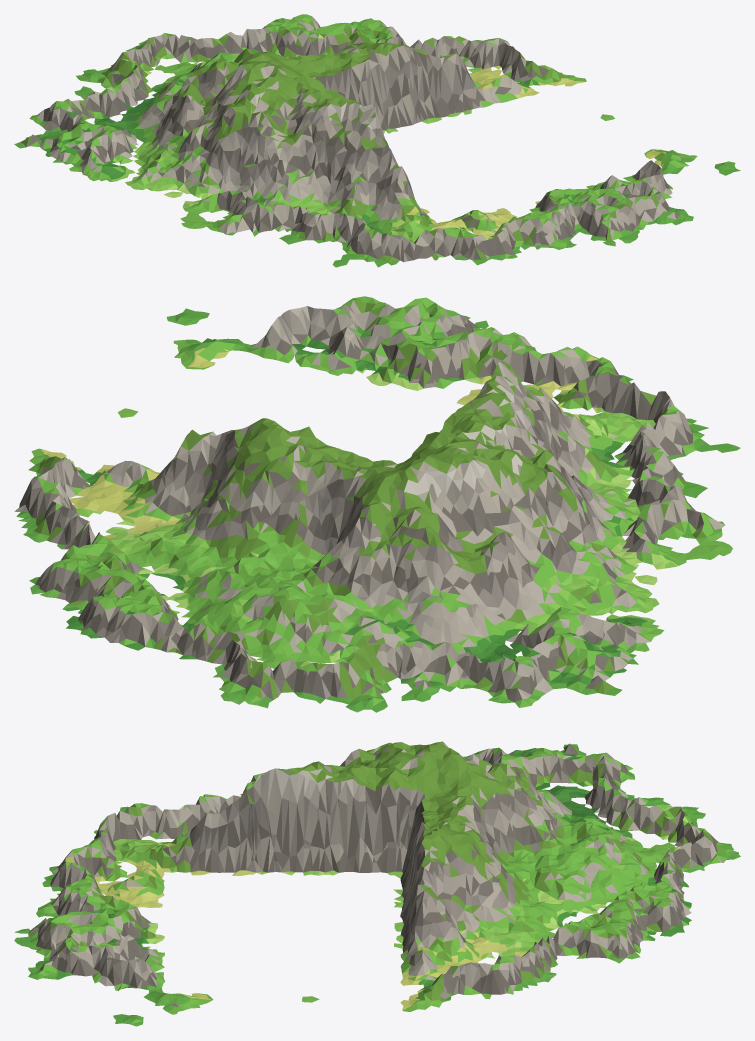
Rendered from Isl-orc4-Relief.fbx.
3 views of the same model, one above another, from view 1: azimuth 30°, elevation 25°; view 2: azimuth 150°, elevation 25°; view 3: azimuth 270°, elevation 25° (orthographic). The views are drawn at different scales.
Visible parts, largest first — view 1: Isl-orc4-Relief-c11, Isl-orc4-Relief-c12, Isl-orc4-Relief-c22, Isl-orc4-Relief-c21, Isl-orc4-Relief-c20, Isl-orc4-Relief-c13; view 2: Isl-orc4-Relief-c12, Isl-orc4-Relief-c22, Isl-orc4-Relief-c11, Isl-orc4-Relief-c21, Isl-orc4-Relief-c13, Isl-orc4-Relief-c20, Isl-orc4-Relief-c31; view 3: Isl-orc4-Relief-c22, Isl-orc4-Relief-c12, Isl-orc4-Relief-c11, Isl-orc4-Relief-c21, Isl-orc4-Relief-c20, Isl-orc4-Relief-c13, Isl-orc4-Relief-c31.
Part boxes in pixels (box(x1,y1,x2,y2)): Isl-orc4-Relief-c11: box(168, 88, 486, 267); Isl-orc4-Relief-c12: box(14, 36, 329, 196); Isl-orc4-Relief-c22: box(215, 14, 576, 133); Isl-orc4-Relief-c21: box(442, 114, 688, 247); Isl-orc4-Relief-c20: box(487, 194, 693, 260); Isl-orc4-Relief-c13: box(76, 33, 187, 80); Isl-orc4-Relief-c12: box(212, 432, 664, 707); Isl-orc4-Relief-c22: box(14, 418, 372, 662); Isl-orc4-Relief-c11: box(439, 357, 740, 580); Isl-orc4-Relief-c21: box(118, 296, 598, 417); Isl-orc4-Relief-c13: box(213, 643, 387, 712); Isl-orc4-Relief-c20: box(348, 297, 590, 355); Isl-orc4-Relief-c31: box(166, 308, 209, 358); Isl-orc4-Relief-c22: box(393, 801, 685, 1007); Isl-orc4-Relief-c12: box(372, 741, 684, 875); Isl-orc4-Relief-c11: box(65, 748, 375, 875); Isl-orc4-Relief-c21: box(64, 856, 319, 1005); Isl-orc4-Relief-c20: box(14, 861, 66, 979); Isl-orc4-Relief-c13: box(681, 806, 740, 872); Isl-orc4-Relief-c31: box(113, 1001, 200, 1026).
Bounding box in the file's own units: 95 × 15.43 × 104.
